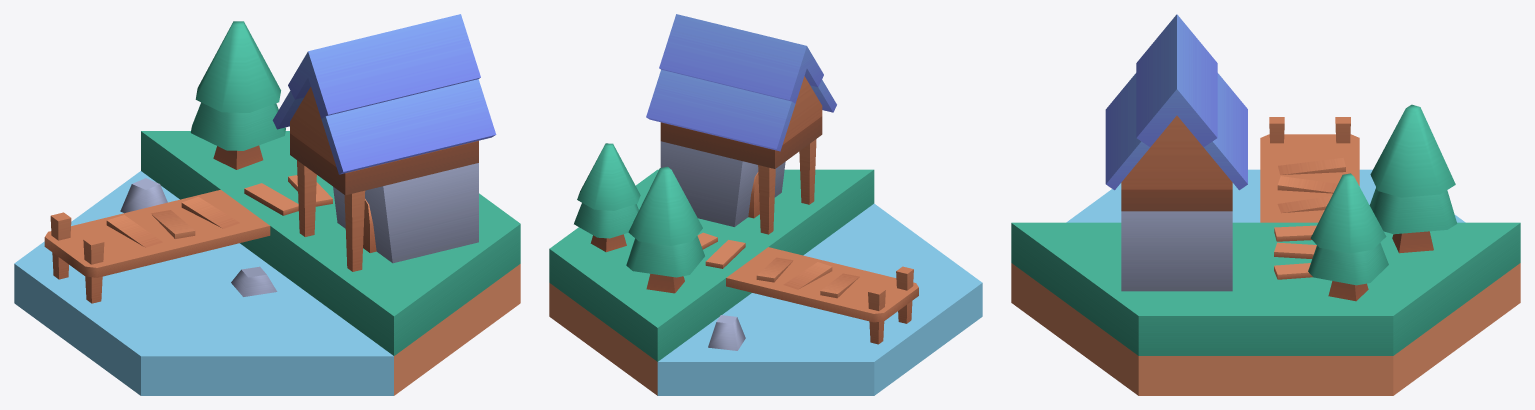
The model's file is building-port.fbx.
3 views of the same model, side by side, from view 1: azimuth 30°, elevation 25°; view 2: azimuth 150°, elevation 25°; view 3: azimuth 270°, elevation 25° (orthographic). The views are drawn at different scales.
Visible parts, largest first — view 1: building_port; view 2: building_port; view 3: building_port.
Boxes of the visible parts, x1=… form: building_port: x1=14, y1=14, x2=520, y2=395; building_port: x1=549, y1=14, x2=982, y2=395; building_port: x1=1011, y1=14, x2=1520, y2=395.
Bounding box in the file's own units: 100 × 71.76 × 115.
Materials: 1 (1 with a texture image).
